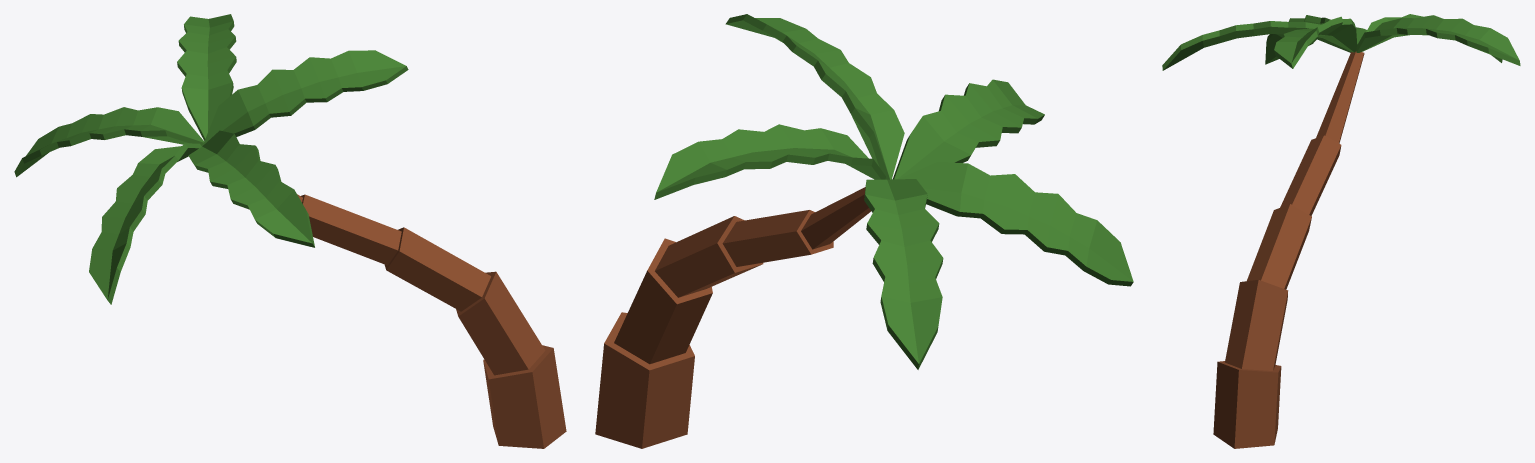
The model's file is palm3.glb.
The picture shows the model from 3 angles, left to right: view 1: azimuth 30°, elevation 25°; view 2: azimuth 150°, elevation 25°; view 3: azimuth 270°, elevation 25°; orthographic projection. The views are drawn at different scales.
Parts seen in each view (by area): view 1: пальма3; view 2: пальма3; view 3: пальма3.
Part boxes in pixels (x1,y1,x2,y2): пальма3: (14,14,566,448); пальма3: (595,14,1133,448); пальма3: (1162,14,1520,448).
Bounding box in the file's own units: 4.09 × 3.45 × 3.25.
1 material, 1 textured.
